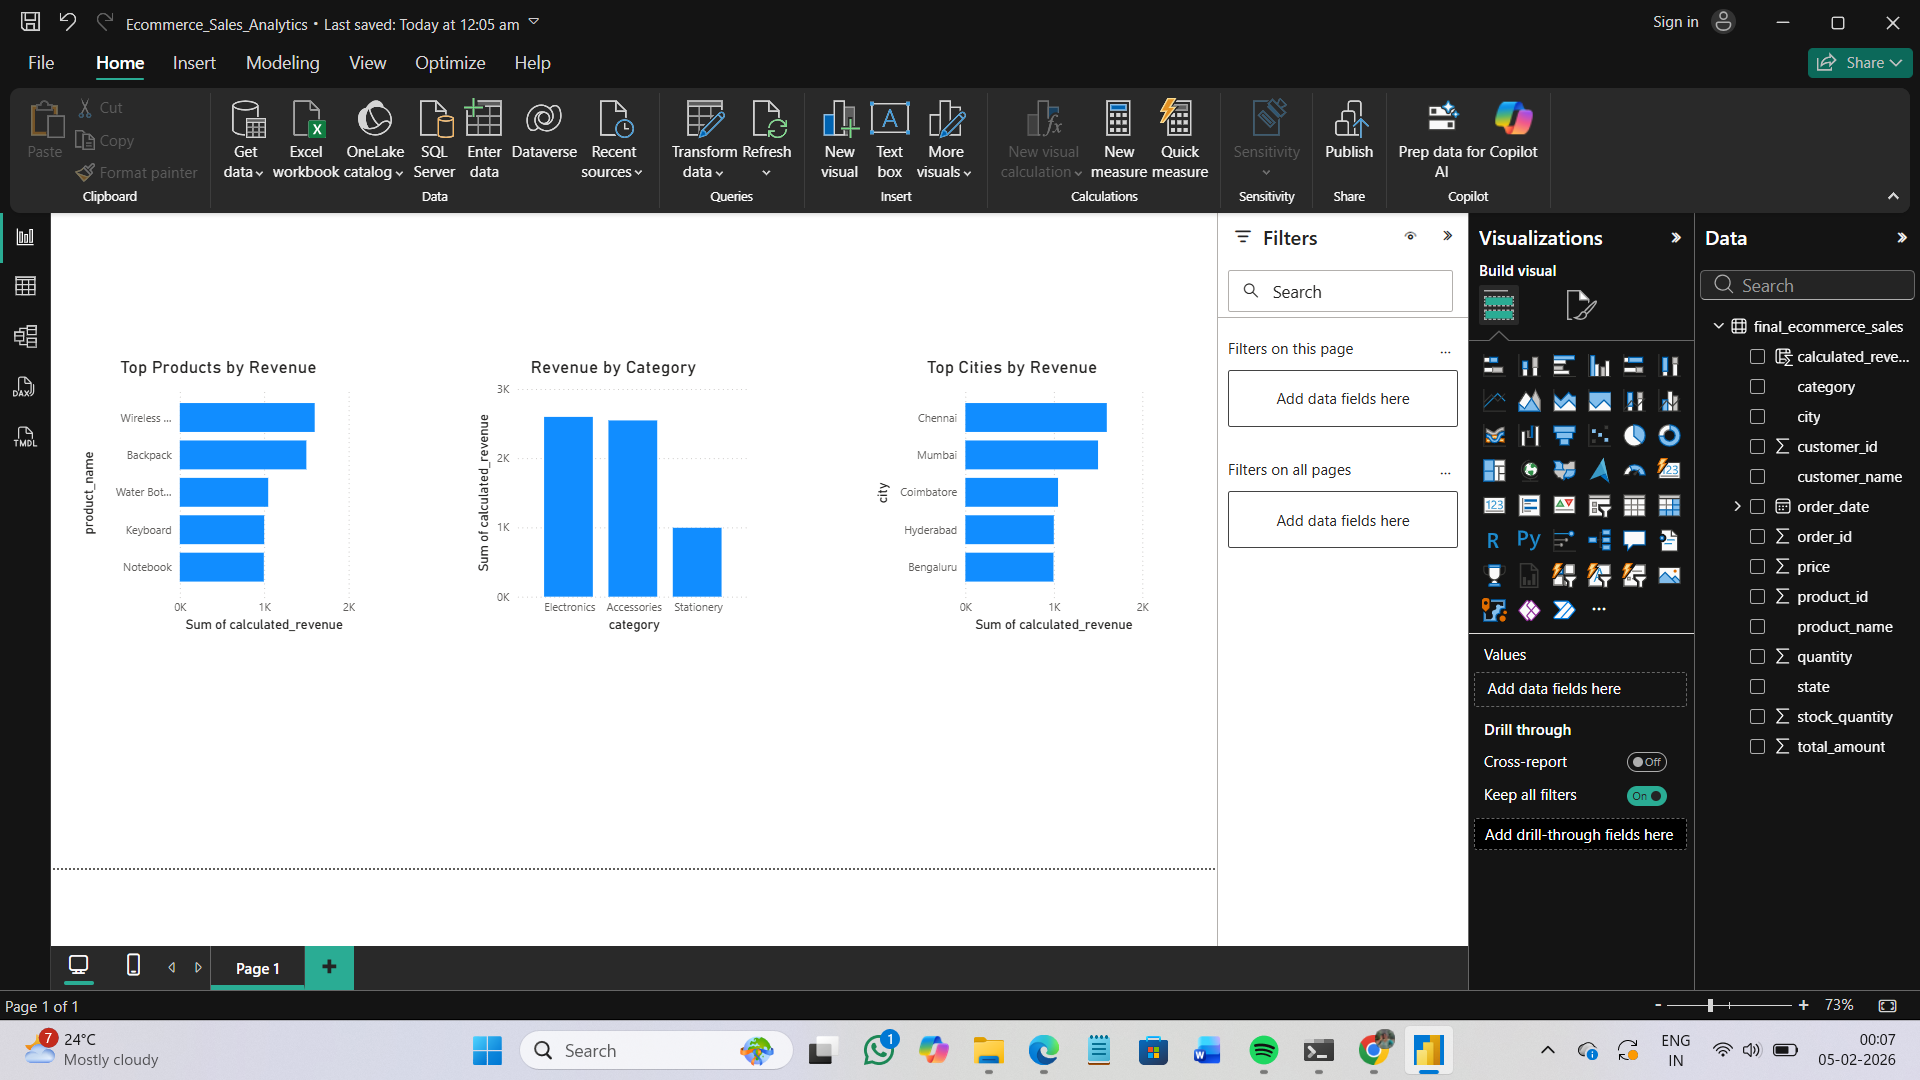

The page's visual inventory and layout, read from the dashboard file:
{"tool":"powerbi","page":{"name":"Page 1","canvas":[1280,720],"ordinal":0},"visuals":[{"type":"barChart","title":"Top Products by Revenue","fields":{"Category":["final_ecommerce_sales.product_name"],"Y":["Sum(final_ecommerce_sales.calculated_revenue)"]},"box":[28.8,157.8,310.1,307.4],"z":0},{"type":"clusteredColumnChart","title":"Revenue by Category","fields":{"Category":["final_ecommerce_sales.category"],"Y":["Sum(final_ecommerce_sales.calculated_revenue)"]},"box":[462.4,157.8,310.1,307.4],"z":1000},{"type":"clusteredBarChart","title":"Top Cities by Revenue","fields":{"Y":["Sum(final_ecommerce_sales.calculated_revenue)"],"Category":["final_ecommerce_sales.city"]},"box":[900.2,157.8,310.1,307.4],"z":2000}]}

Visuals, with their boxes on the page's 1280x720 design canvas (x1, y1, x2, y2). These are canvas units, not pixel positions in the 1920x1080 screenshot, which may show the page scaled, cropped or inside an application window:
"Top Products by Revenue" barChart: 29 158 339 465
"Revenue by Category" clusteredColumnChart: 462 158 772 465
"Top Cities by Revenue" clusteredBarChart: 900 158 1210 465
